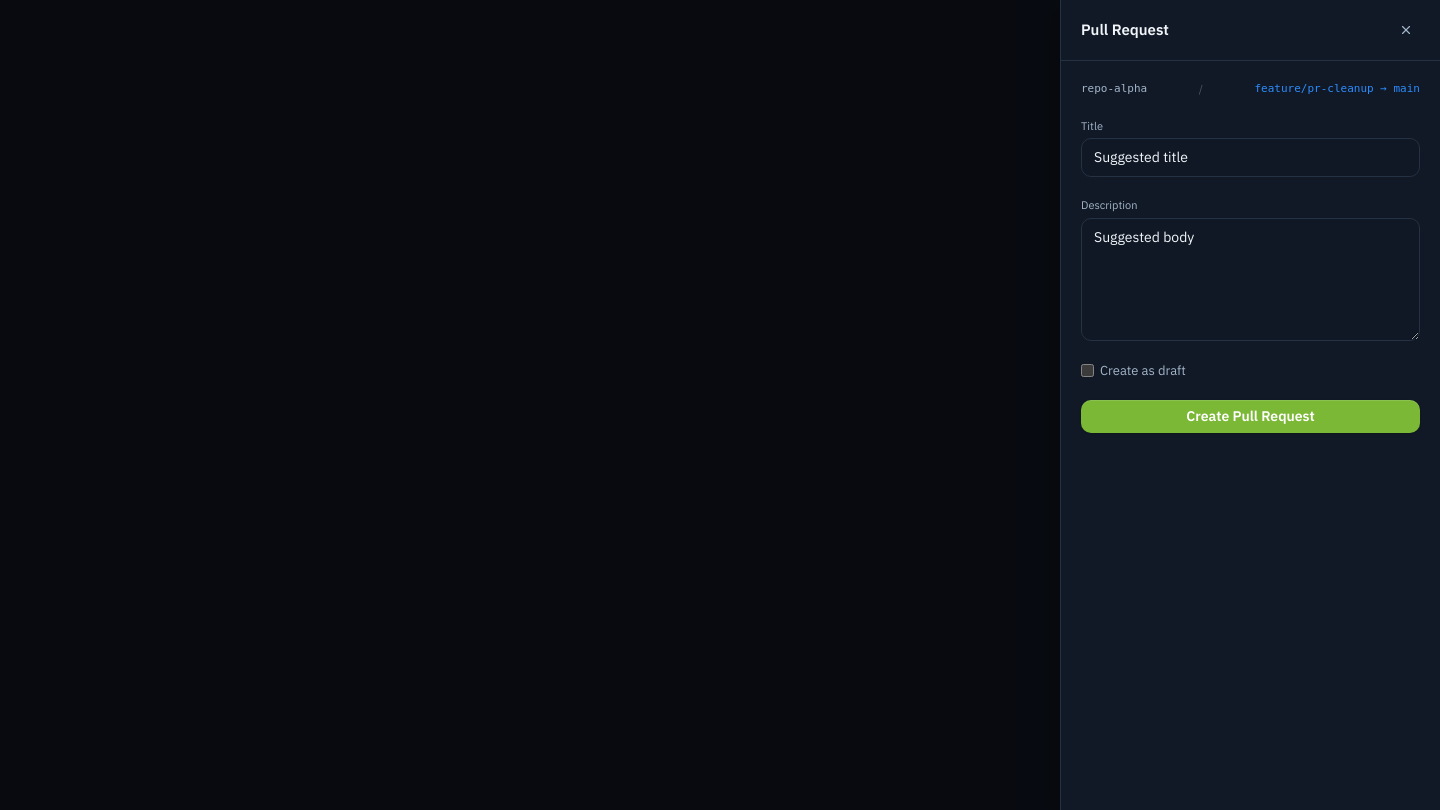
Test: PrLifecycleDrawer › starts async create with edited form values and switches to lifecycle view on completion
Replace the text in the field showing "Suggested title" with "Edited title": (1250, 158) top-left (1081, 138), bottom-right (1420, 177)
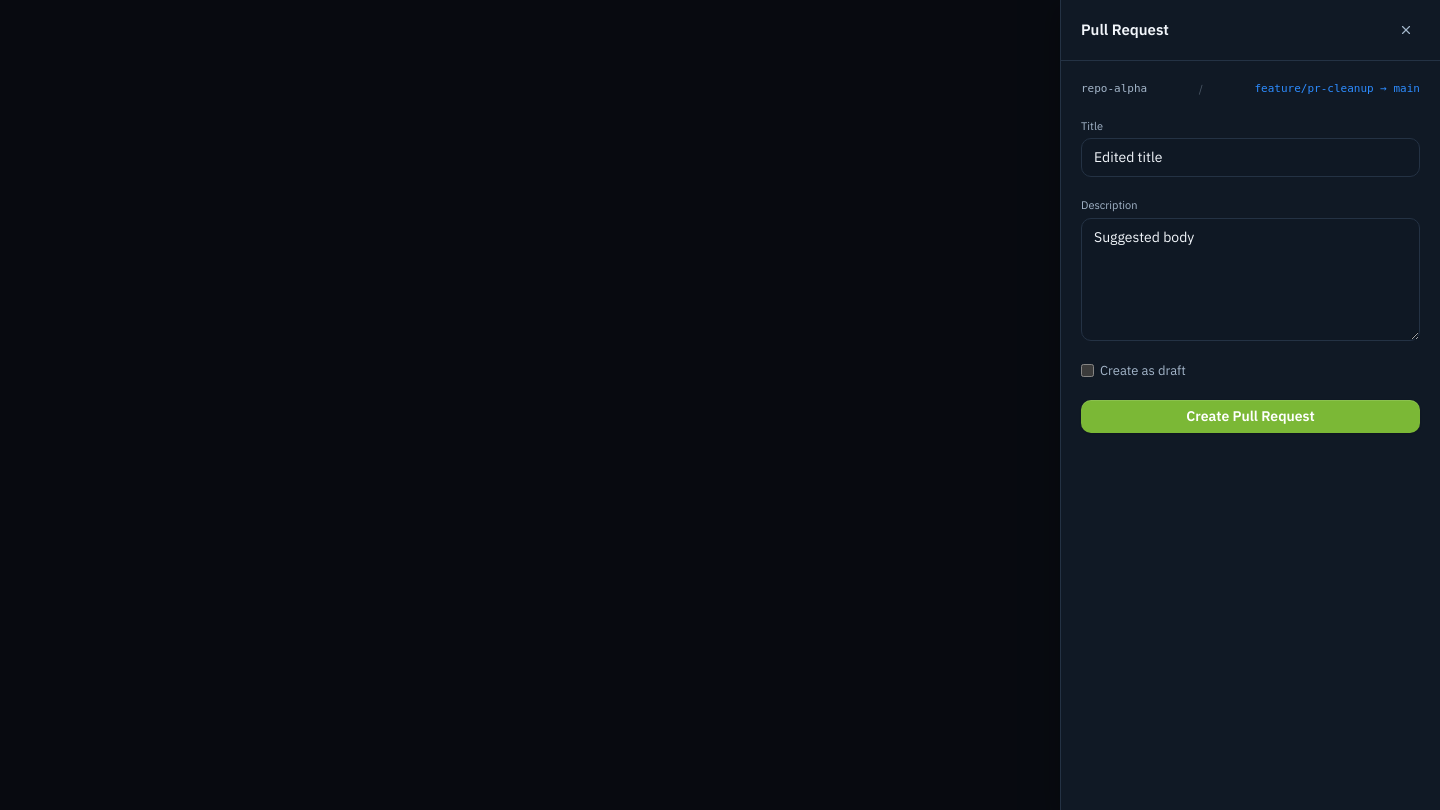
Replace the text in the text box showing "Suggested body" with "Edited body": (1250, 279) top-left (1081, 218), bottom-right (1420, 340)
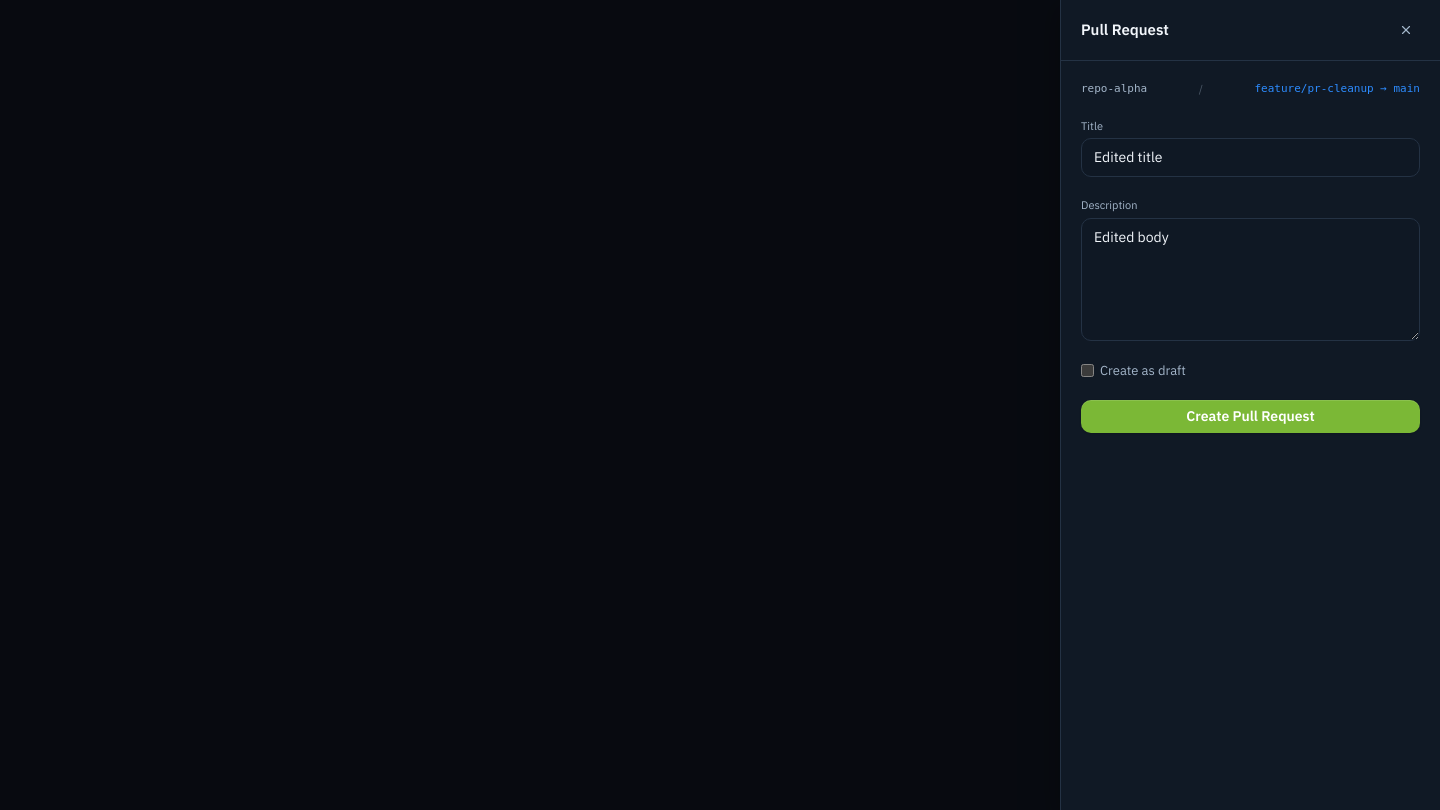
Click the button "Create Pull Request": (1250, 416) top-left (1081, 400), bottom-right (1420, 433)
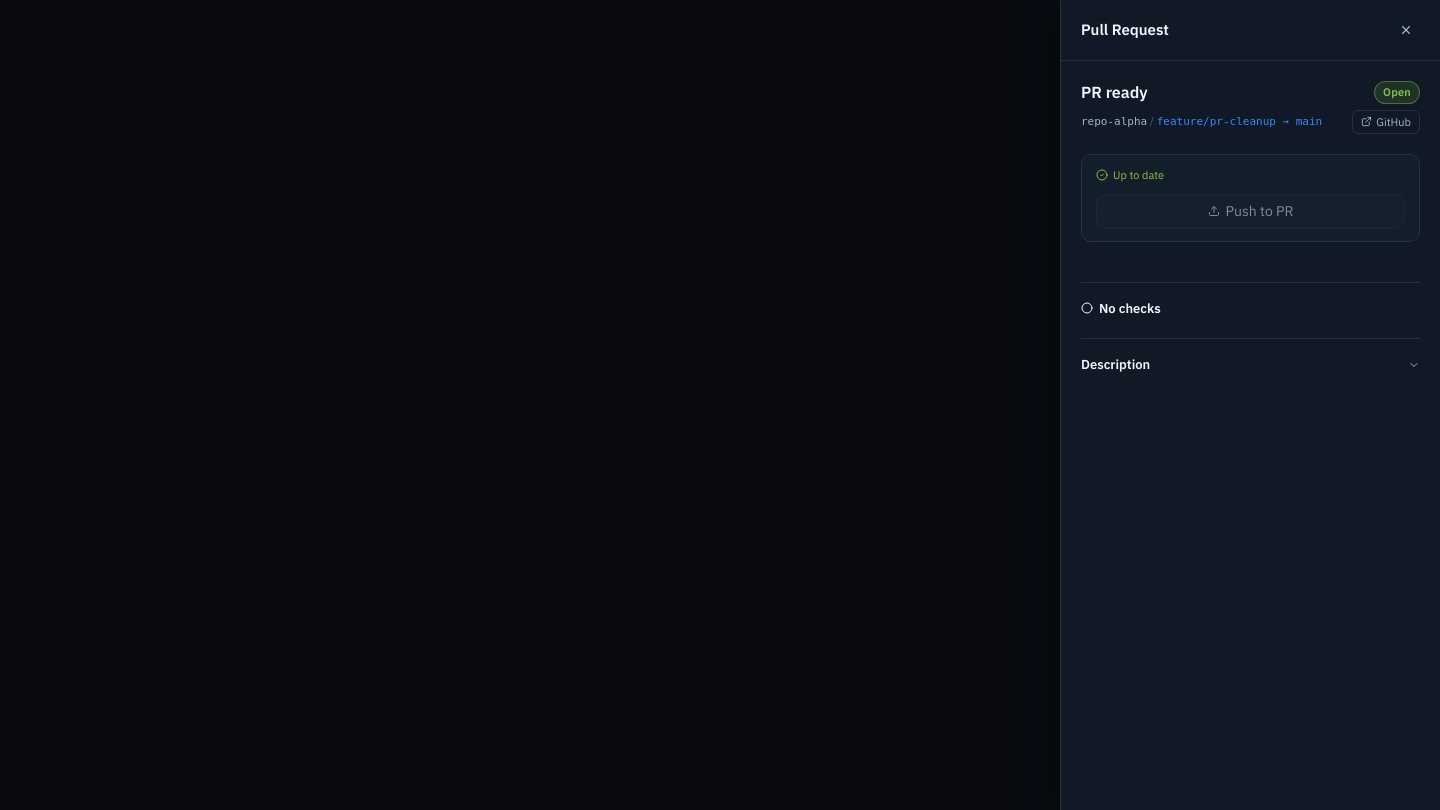
Expected: the heading "PR ready" is shown, top-left (1081, 82), bottom-right (1148, 102)
Expected: the button "GitHub" is shown, top-left (1352, 110), bottom-right (1420, 134)
